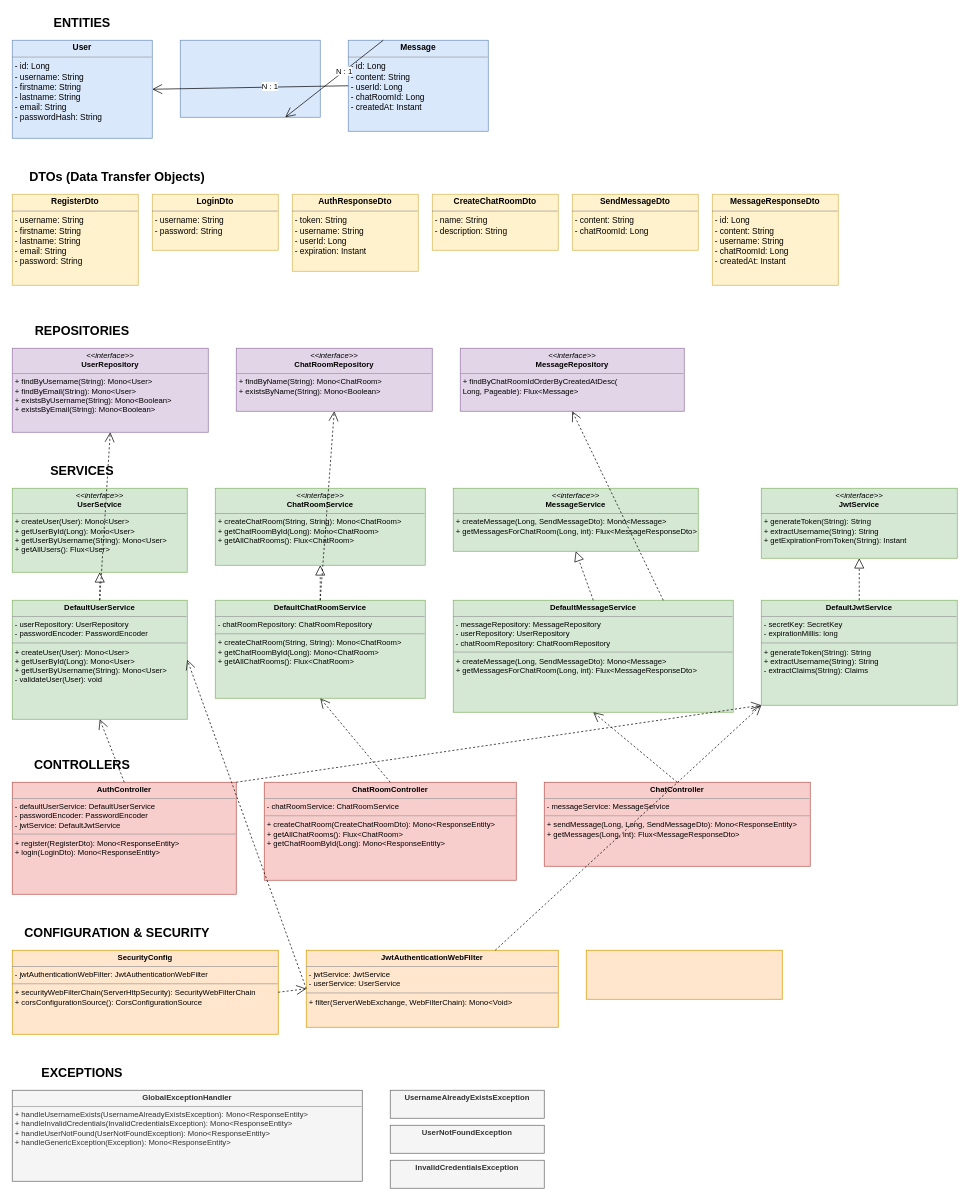
This 970x1201 diagram has some shape labels left out. Here are the shapes that lost their labels. From the top down, the centre of each, then its label:
[250,78]: ChatRoom - id: Long - name: String - description: String - createdAt: Instant
[684,974]: PasswordEncoderConfig + passwordEncoder(): PasswordEncoder
